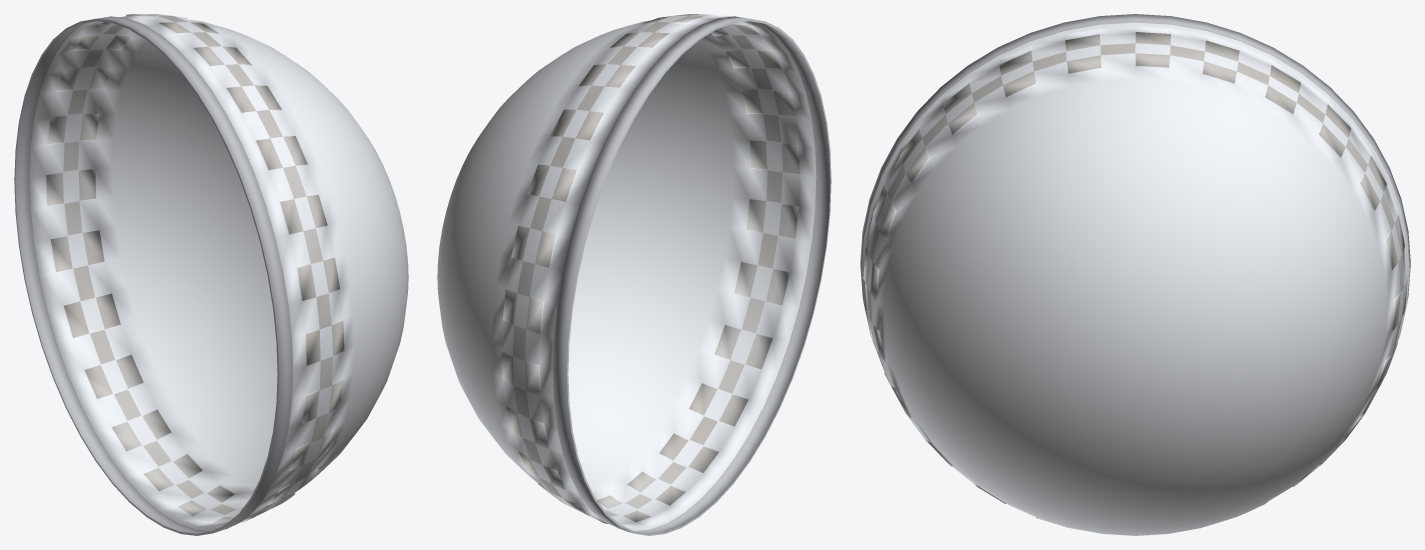
The model's file is cricket_ball_white.glb.
3 views of the same model, side by side, from view 1: azimuth 30°, elevation 25°; view 2: azimuth 150°, elevation 25°; view 3: azimuth 270°, elevation 25° (orthographic). The views are drawn at different scales.
Visible parts, largest first — view 1: ball_new_white-col; view 2: ball_new_white-col; view 3: ball_new_white-col.
Boxes of the visible parts, box(x1,y1,x2,y2) form: ball_new_white-col: box(14, 14, 408, 535); ball_new_white-col: box(437, 14, 831, 535); ball_new_white-col: box(860, 14, 1410, 535).
Size of the model in its own units: 0.036 by 0.0727 by 0.0727.
Materials: 3 (2 with a texture image).
